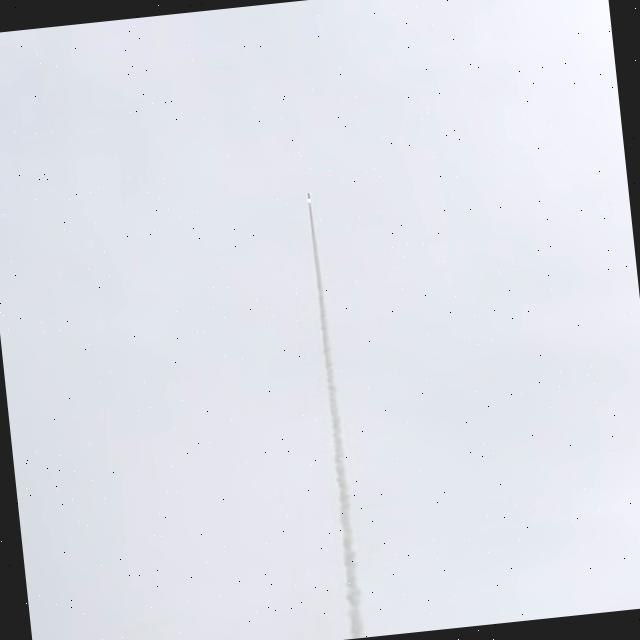smoke_trail_with_rocket: (315, 265, 364, 639)
